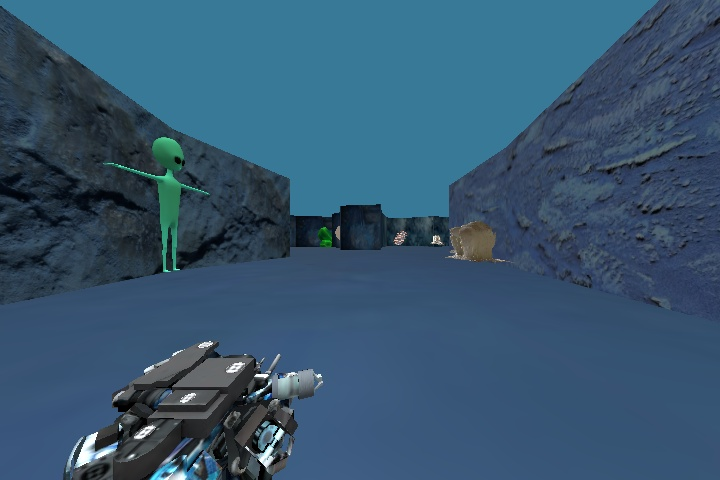formation: (442, 219, 506, 272)
green_alien: (100, 110, 213, 274)
green_crystal: (309, 224, 334, 248)
mushrooms: (388, 225, 408, 249)
